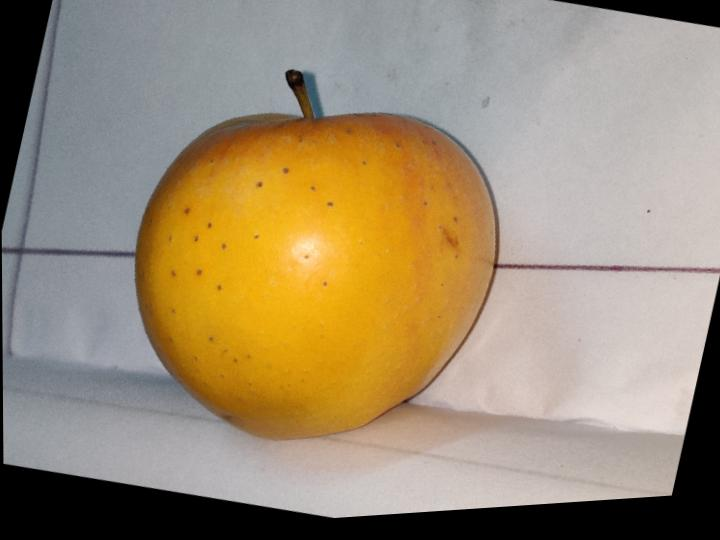apple: (135, 95, 494, 440)
